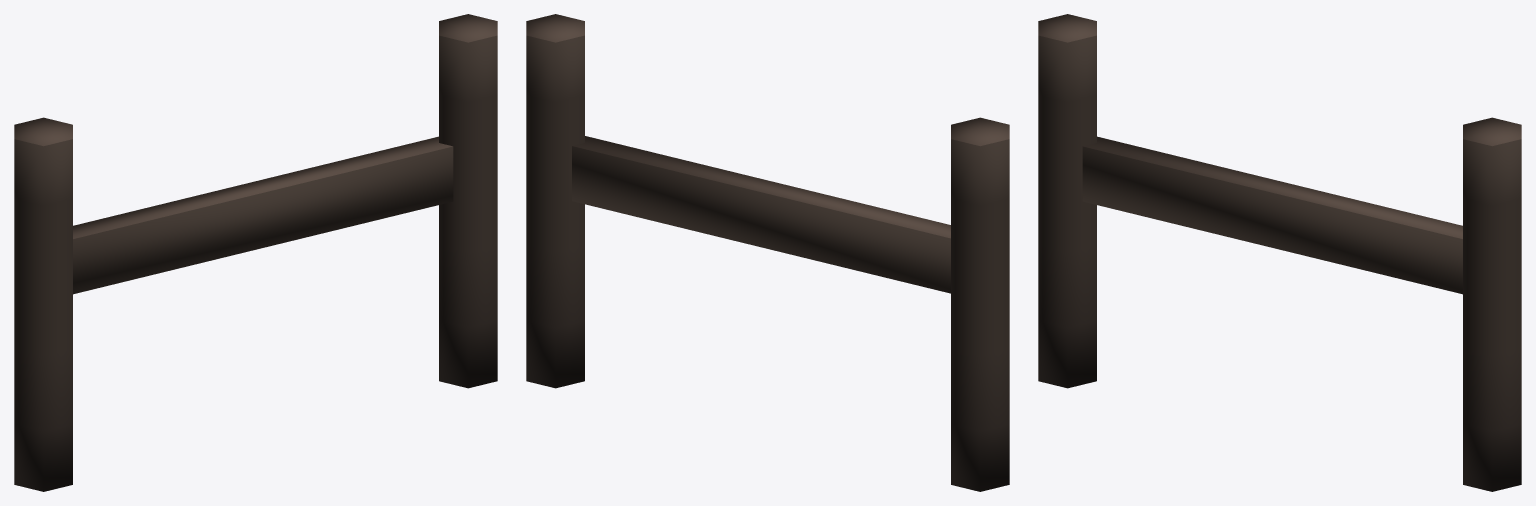
File: furnishings-barriers-basicroundwoodfence_v1.glb
3 views of the same model, side by side, from view 1: azimuth 30°, elevation 25°; view 2: azimuth 150°, elevation 25°; view 3: azimuth 330°, elevation 25° (orthographic).
Visible parts, largest first — view 1: BasicRoundWoodFence.001; view 2: BasicRoundWoodFence.001; view 3: BasicRoundWoodFence.001.
Part boxes in pixels (left/top/right/bottom): BasicRoundWoodFence.001: left=14, top=14, right=497, bottom=491; BasicRoundWoodFence.001: left=526, top=14, right=1009, bottom=491; BasicRoundWoodFence.001: left=1038, top=14, right=1521, bottom=491.
Bounding box in the file's own units: 1.75 × 1.2 × 0.1839.
